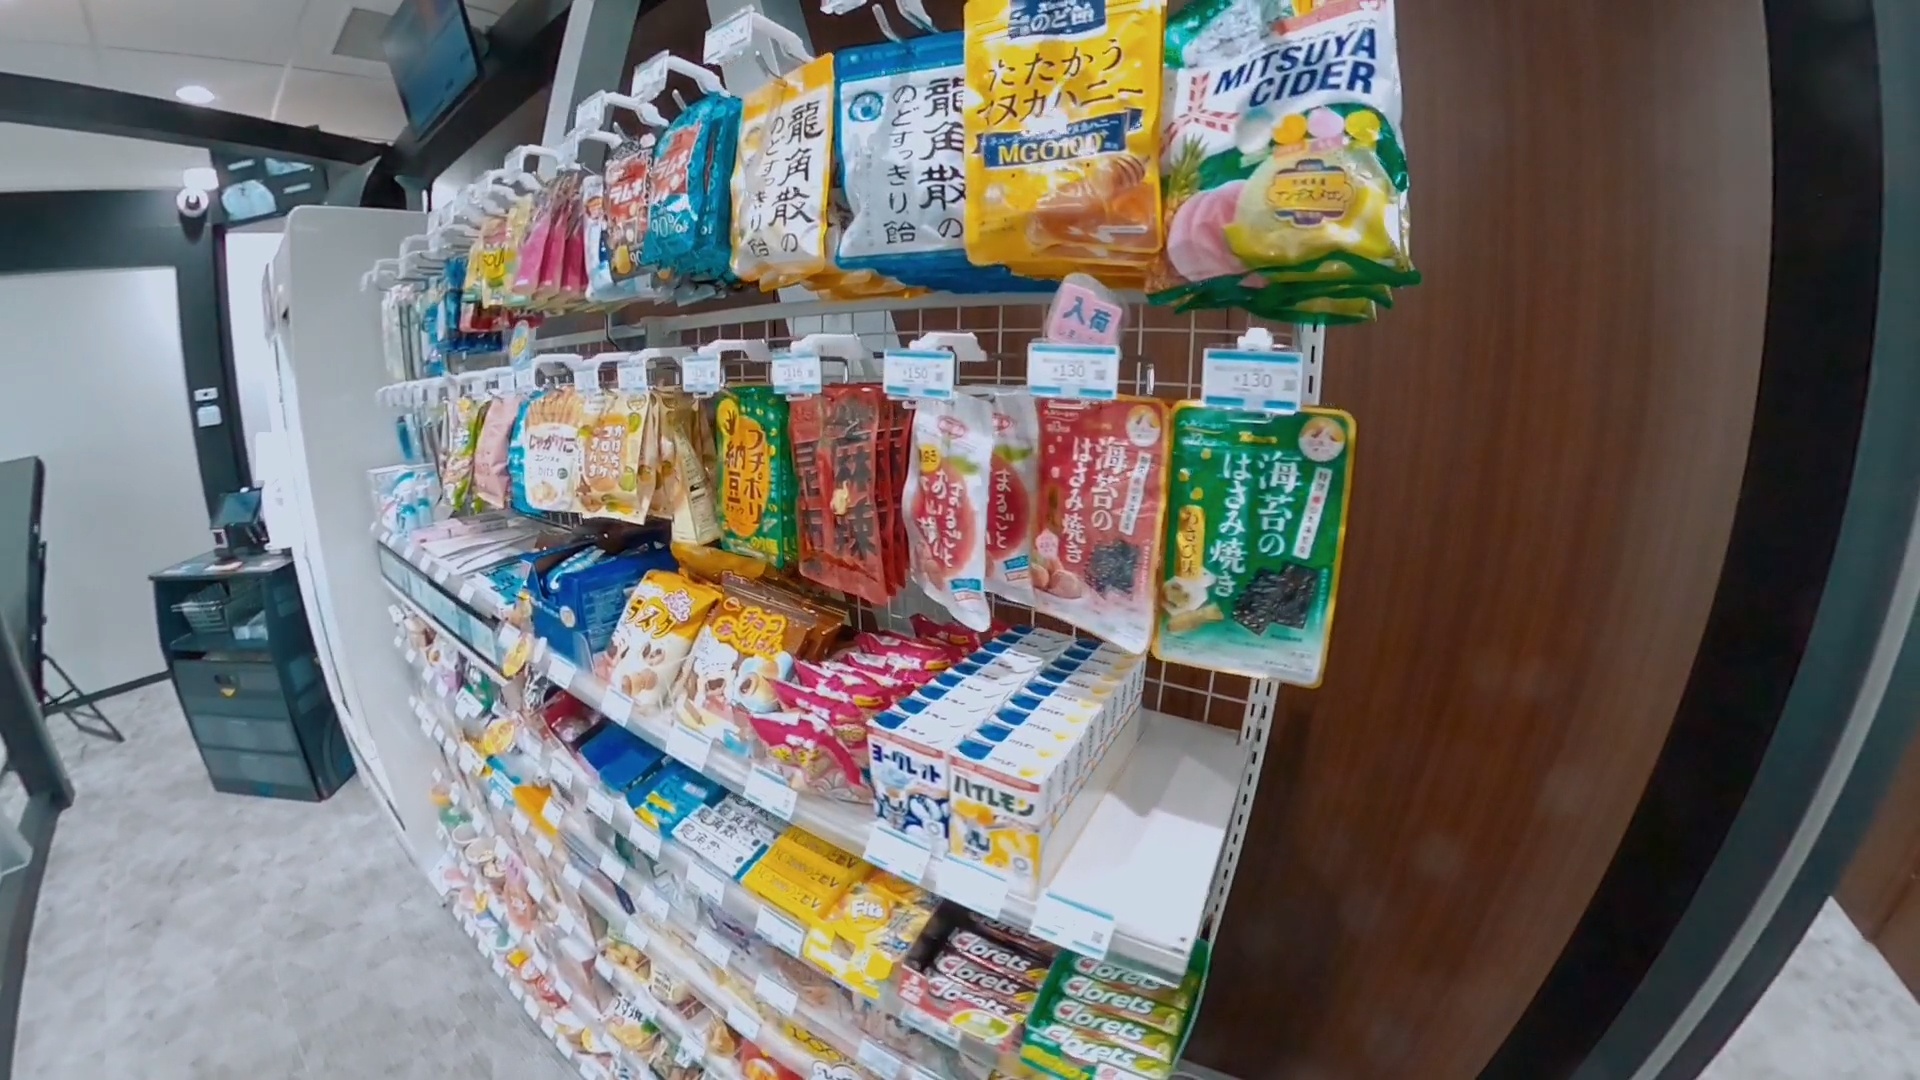NorinoHasamiyaki: (1158, 407, 1353, 681)
